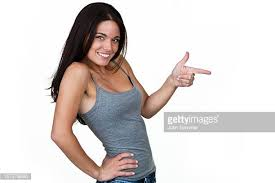hand: (165, 50, 220, 94)
